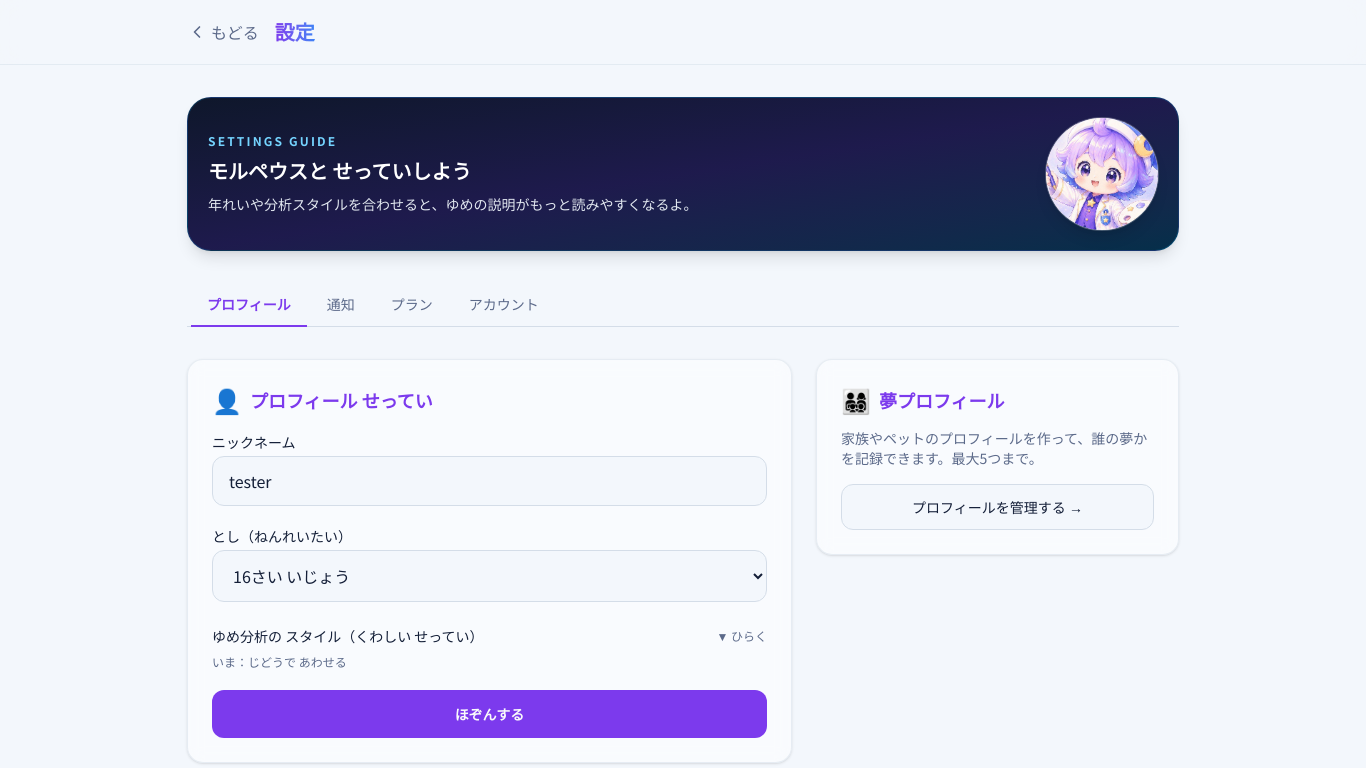
Test case: userId が無い状態での削除 › 画面内にエラーを表示し、無反応にならない
Click the tab "アカウント" at (504, 305), box left=453, top=283, right=555, bottom=327
(page scrolled)
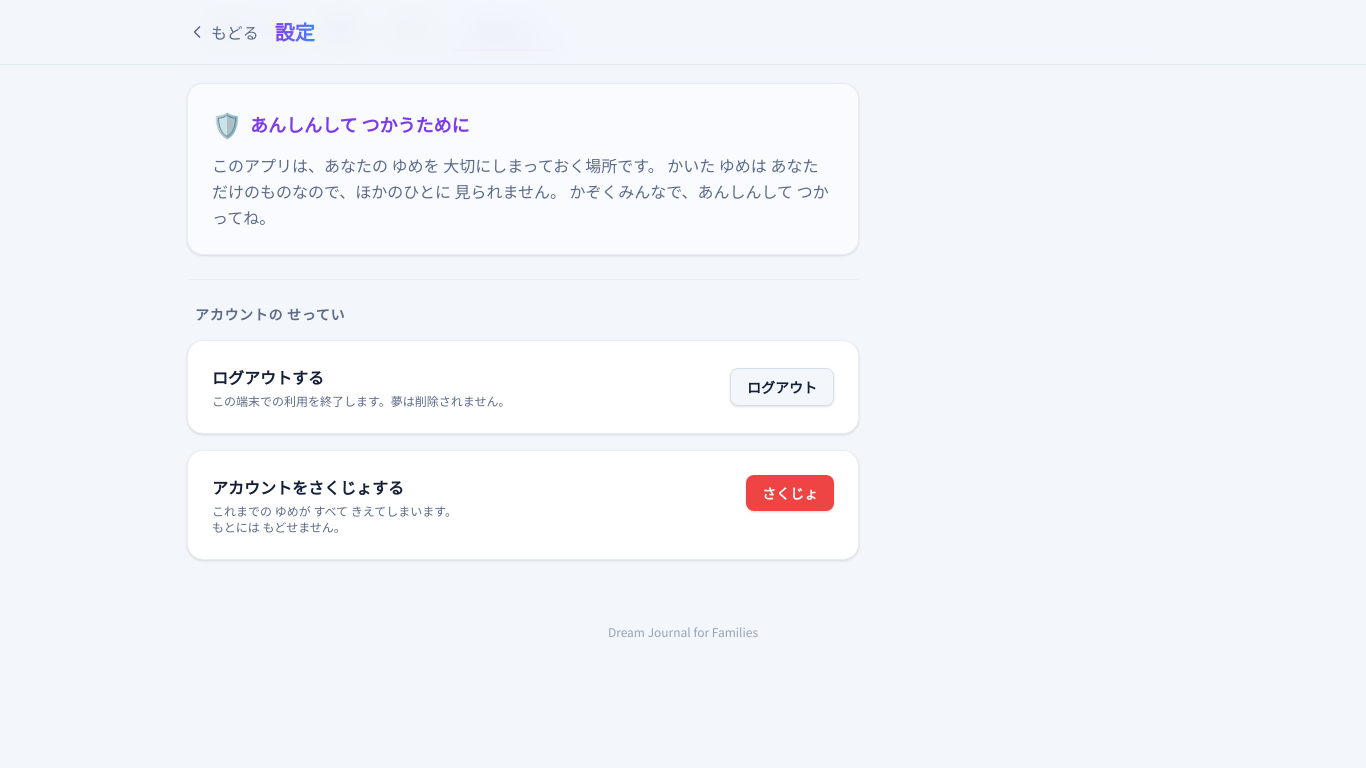
Click the button "さくじょ" at (790, 493), box left=746, top=475, right=834, bottom=511
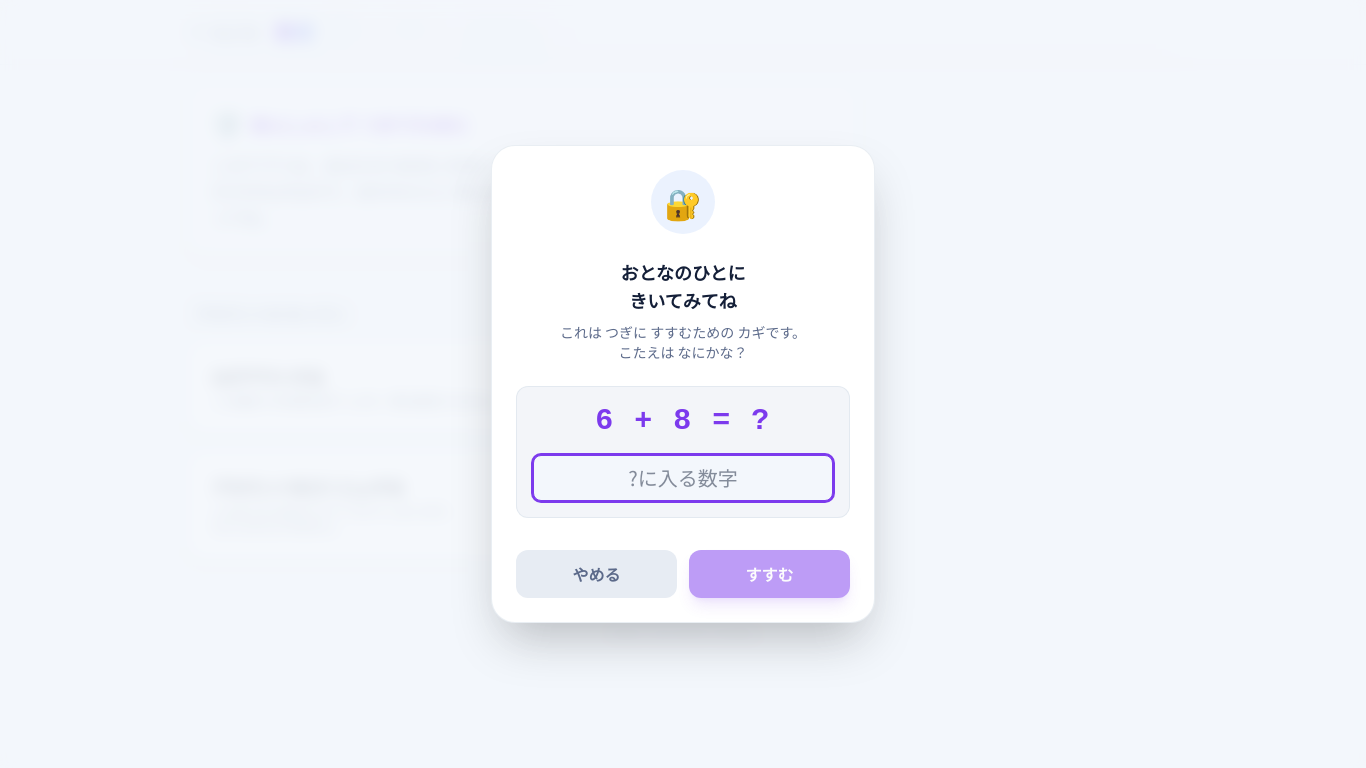
Type "14" into the field with placeholder "?に入る数字" at (683, 478), box left=533, top=455, right=833, bottom=501
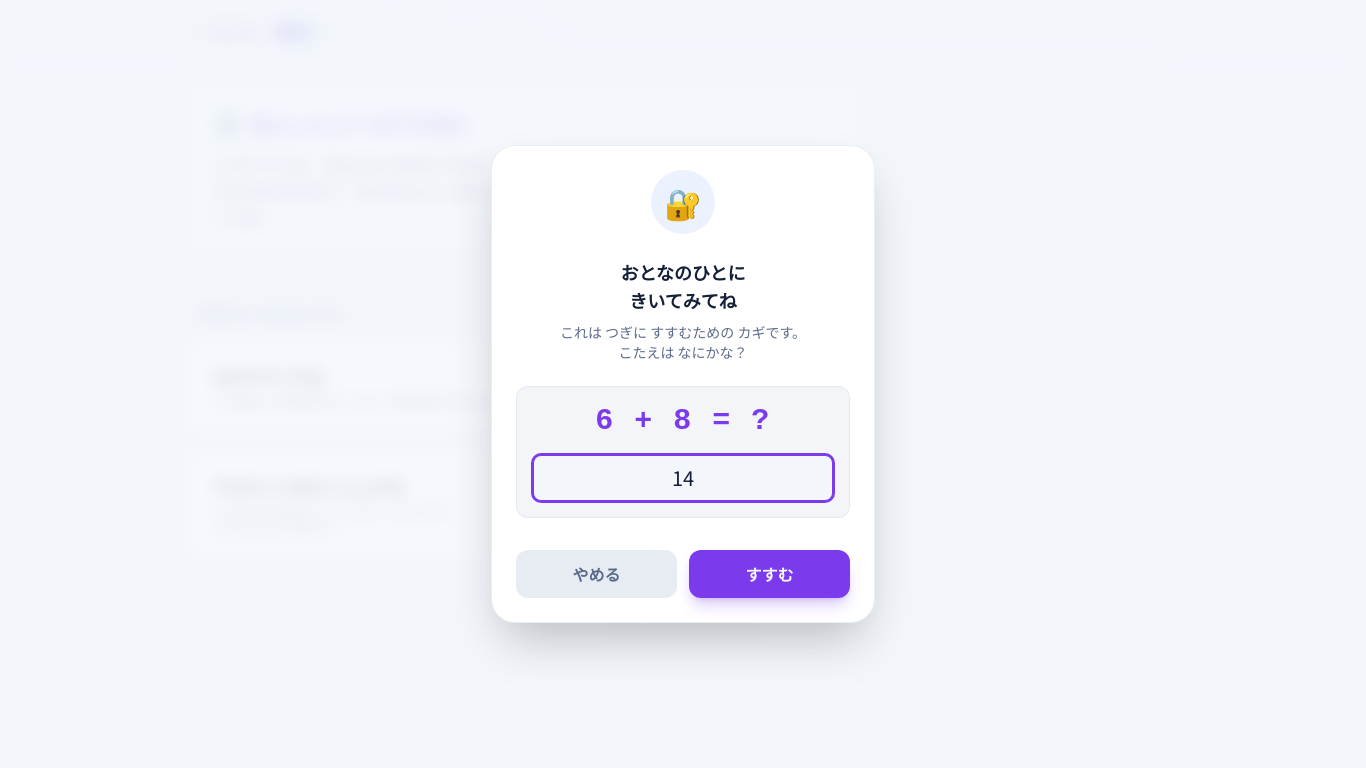
Click the button "すすむ" at (770, 574), box left=689, top=550, right=850, bottom=598
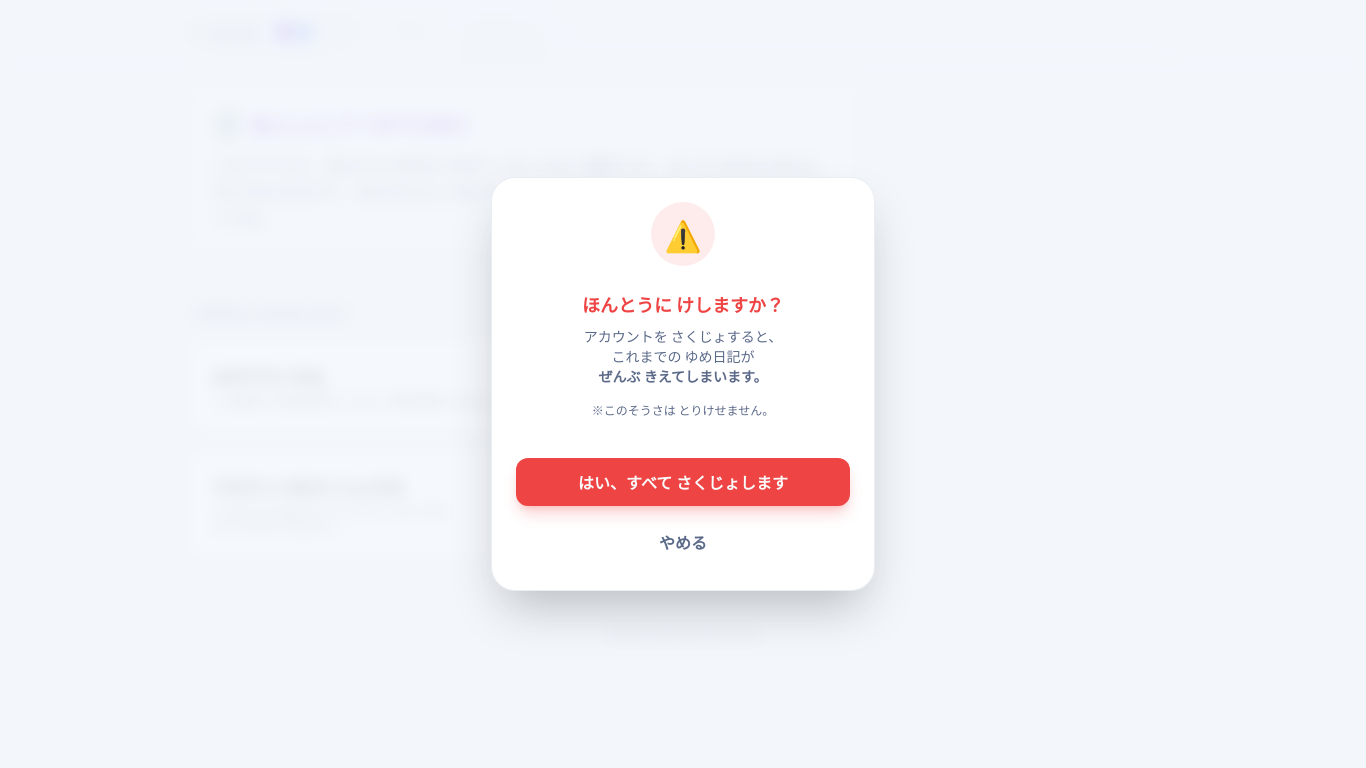
Click the button "はい、すべて さくじょします" at (683, 482), box left=516, top=458, right=850, bottom=506
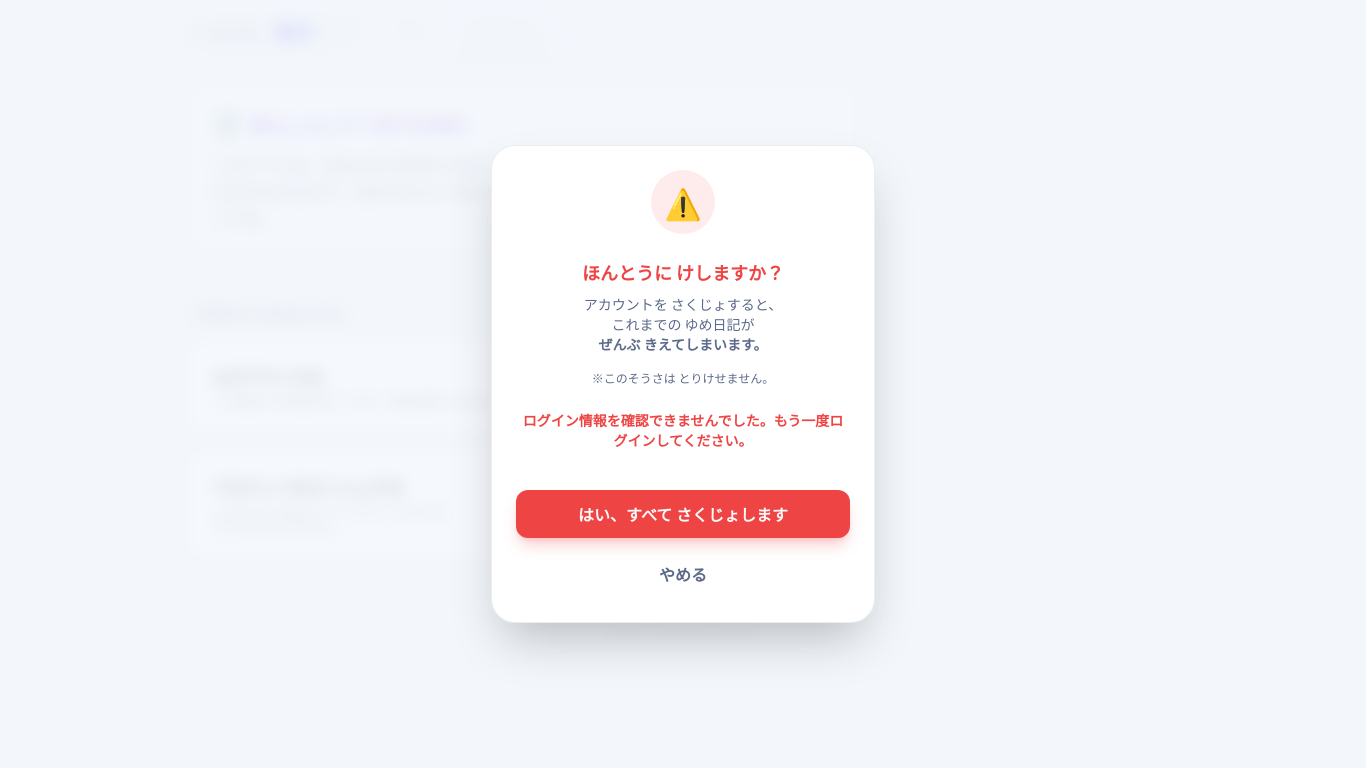
Now the text "ログイン情報を確認できませんでした。もう一度ログインしてください。" is shown, box left=516, top=410, right=850, bottom=450
